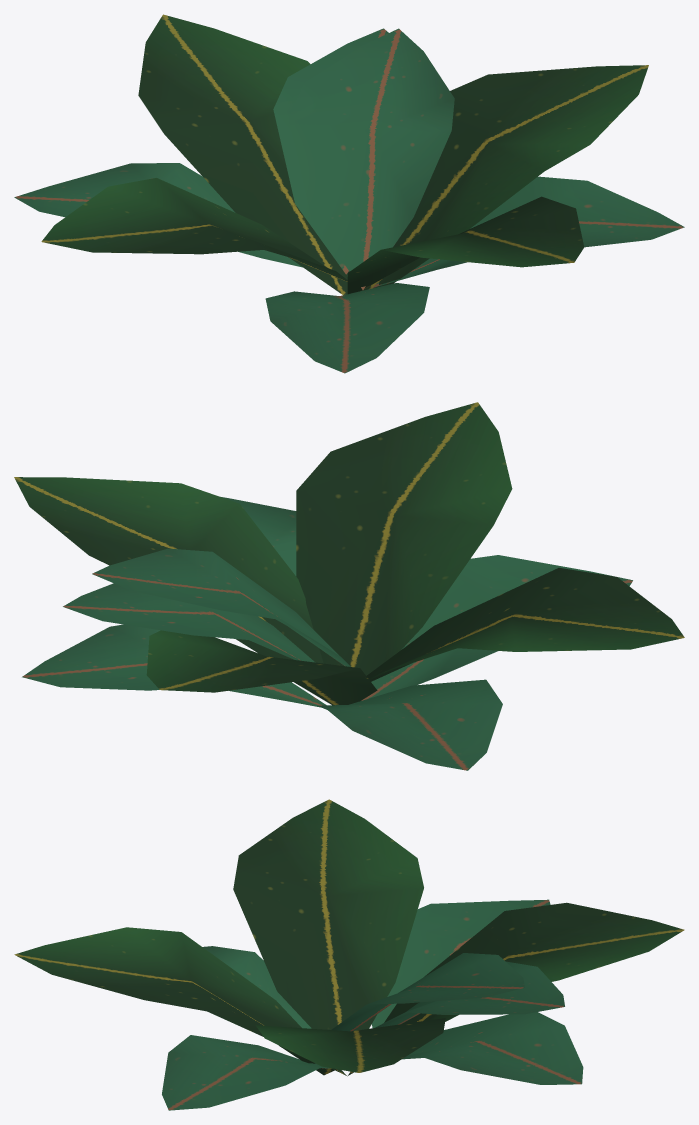
Rendered from croton_A.fbx.
3 renders of one model, top to bottom at view 1: azimuth 30°, elevation 25°; view 2: azimuth 150°, elevation 25°; view 3: azimuth 270°, elevation 25°, orthographic. The views are drawn at different scales.
Parts seen in each view (by area): view 1: croton_A_geo; view 2: croton_A_geo; view 3: croton_A_geo.
Boxes of the visible parts, left/top/right/bottom form: croton_A_geo: left=14, top=14, right=684, bottom=373; croton_A_geo: left=14, top=402, right=684, bottom=770; croton_A_geo: left=14, top=799, right=684, bottom=1110.
Size of the model in its own units: 60.67 by 15.35 by 60.17.
Materials: 1 (1 with a texture image).
